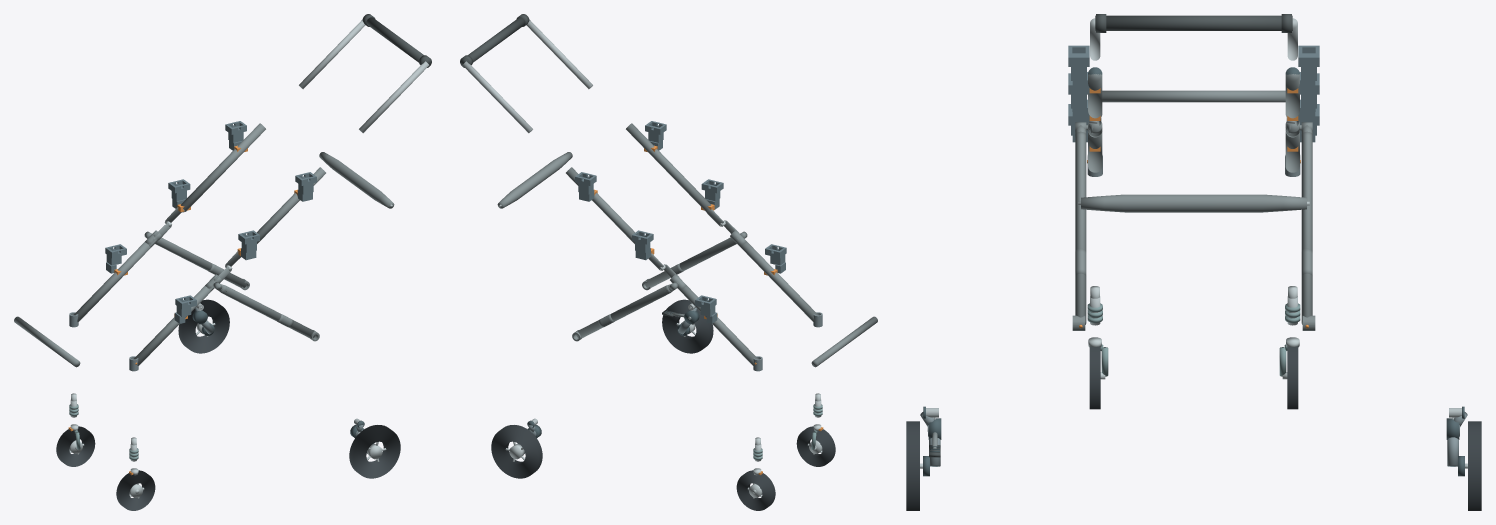
Rendered from w550_state6_wheel_S.glb.
3 renders of one model, left to right at view 1: azimuth 30°, elevation 25°; view 2: azimuth 150°, elevation 25°; view 3: azimuth 270°, elevation 25°, orthographic. The views are drawn at different scales.
Parts seen in each view (by area): view 1: RL_tire.007, RR_tire.007, FL_tire.007, main_upper_1.008, FR_tire.007, main_lower_1.008, V46_rearbar.008, V46_rear_leg_-1.008, V46_rear_leg_1.008, main_lower_-1.008, round_handle.007, handle_slider_-1.007 (+5 smaller); view 2: RR_tire.007, RL_tire.007, FR_tire.007, main_upper_-1.008, FL_tire.007, main_lower_-1.008, V46_rearbar.008, V46_rear_leg_1.008, V46_rear_leg_-1.008, main_lower_1.008, round_handle.007, handle_slider_1.007 (+5 smaller); view 3: V46_rearbar.008, round_handle.007, front_fixed_round_tube.007, V46_rear_leg_1.008, V46_rear_leg_-1.008, RL_tire.007, RR_tire.007, Universal_Cabin_Receiver_H_1, Universal_Cabin_Receiver_H_-1, FL_tire.007, FR_tire.007.
Part boxes in pixels (x1,y1,x2,y2): RL_tire.007: (349,425,400,478); RR_tire.007: (178,299,229,353); FL_tire.007: (116,470,155,510); main_upper_1.008: (181,123,265,211); FR_tire.007: (56,426,95,466); main_lower_1.008: (73,239,156,322); V46_rearbar.008: (319,152,394,208); V46_rear_leg_-1.008: (220,285,315,338); V46_rear_leg_1.008: (155,237,246,287); main_lower_-1.008: (133,286,213,366); round_handle.007: (366,17,431,66); handle_slider_-1.007: (359,61,429,133); RR_tire.007: (491,425,542,478); RL_tire.007: (662,299,713,353); FR_tire.007: (736,470,775,510); main_upper_-1.008: (626,123,710,211); FL_tire.007: (796,426,835,466); main_lower_-1.008: (735,239,818,322); V46_rearbar.008: (497,152,572,208); V46_rear_leg_1.008: (576,285,671,338); V46_rear_leg_-1.008: (645,237,736,287); main_lower_1.008: (678,286,758,366); round_handle.007: (460,17,525,66); handle_slider_1.007: (462,61,532,133); V46_rearbar.008: (1081,194,1306,212); round_handle.007: (1095,15,1292,30); front_fixed_round_tube.007: (1102,90,1285,102); V46_rear_leg_1.008: (1301,131,1312,324); V46_rear_leg_-1.008: (1075,131,1086,324); RL_tire.007: (906,421,919,510); RR_tire.007: (1468,421,1481,510); Universal_Cabin_Receiver_H_1: (1298,45,1319,93); Universal_Cabin_Receiver_H_-1: (1068,45,1089,93); FL_tire.007: (1089,346,1100,409); FR_tire.007: (1287,346,1298,409).
Bounding box in the file's own units: 1.51 × 1.54 × 1.28.
